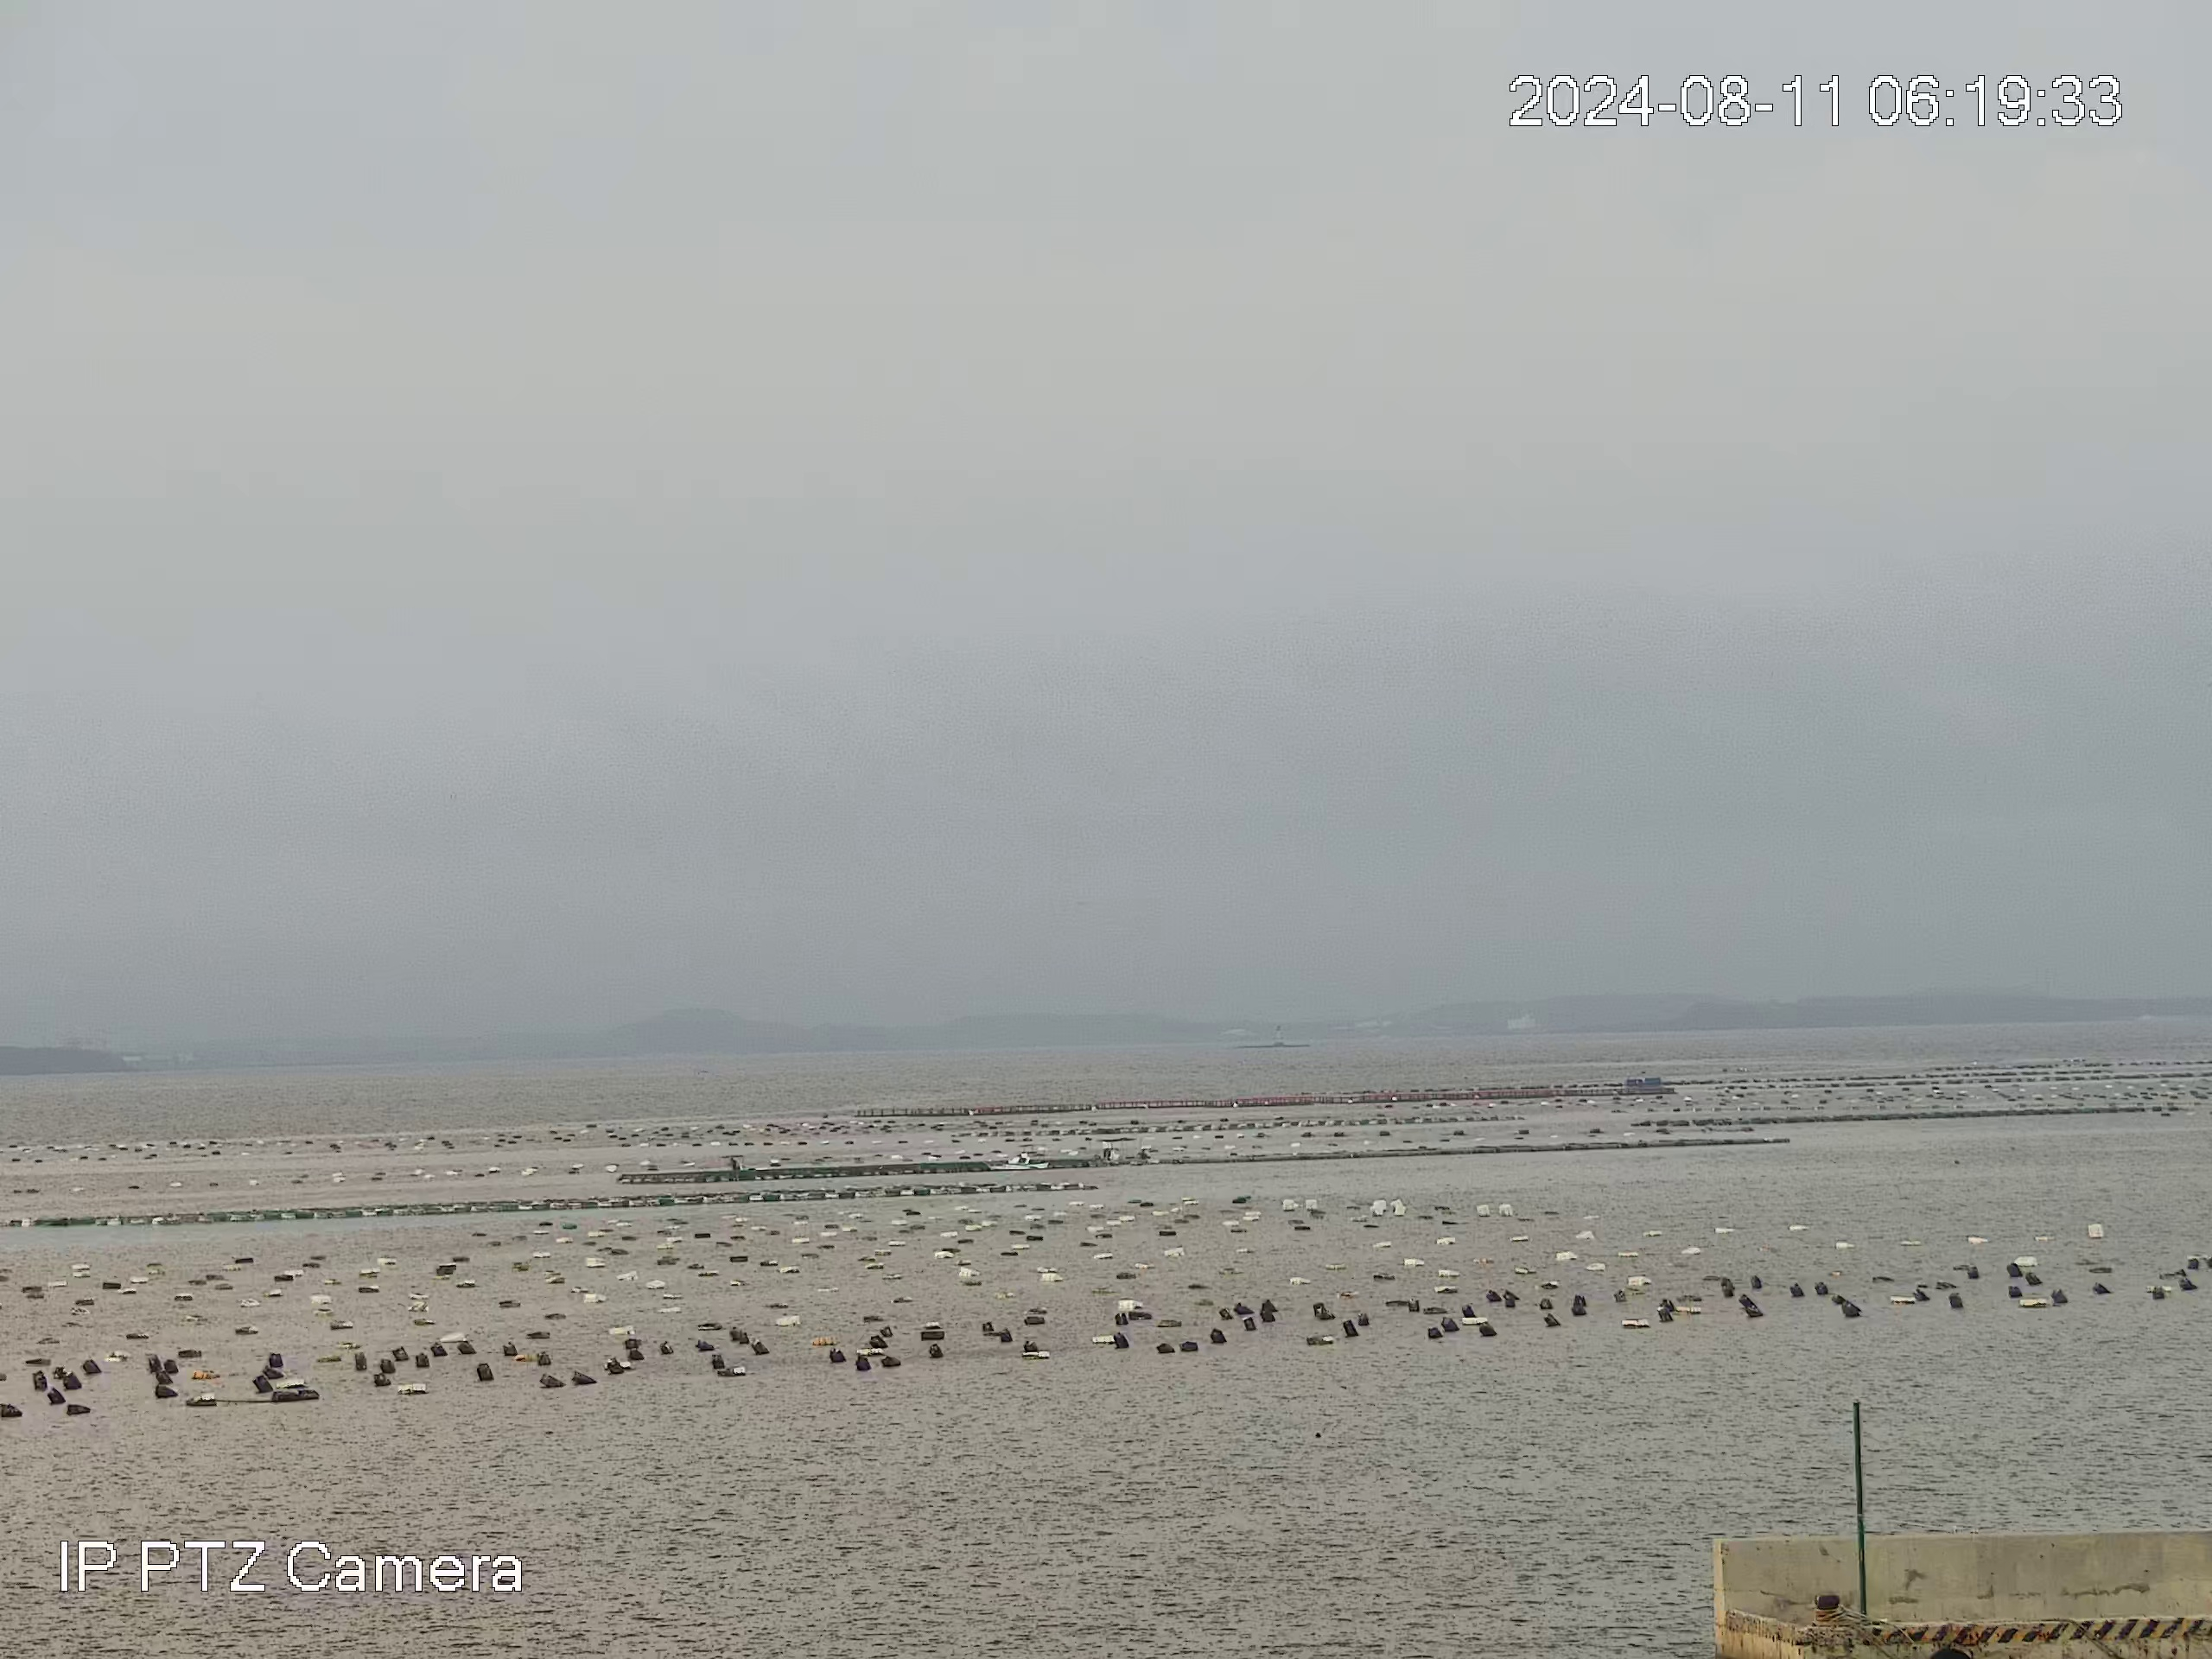boat: (980, 1149, 1052, 1172)
